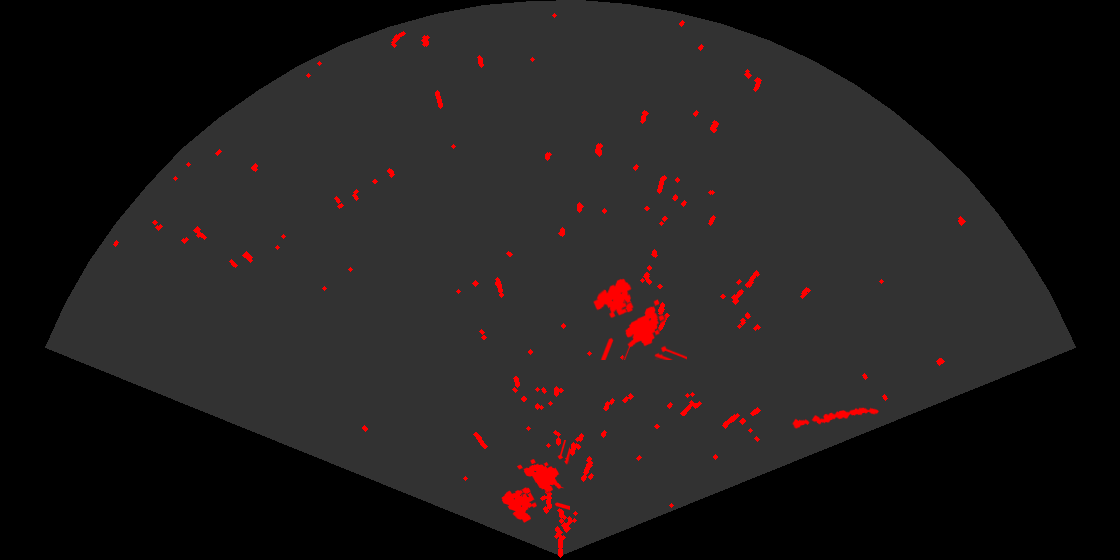cage: (592, 277, 687, 360), (500, 440, 570, 524)
chain: (790, 406, 880, 430)
